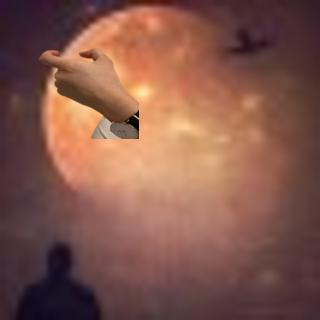HATE: (33, 43, 123, 112)
